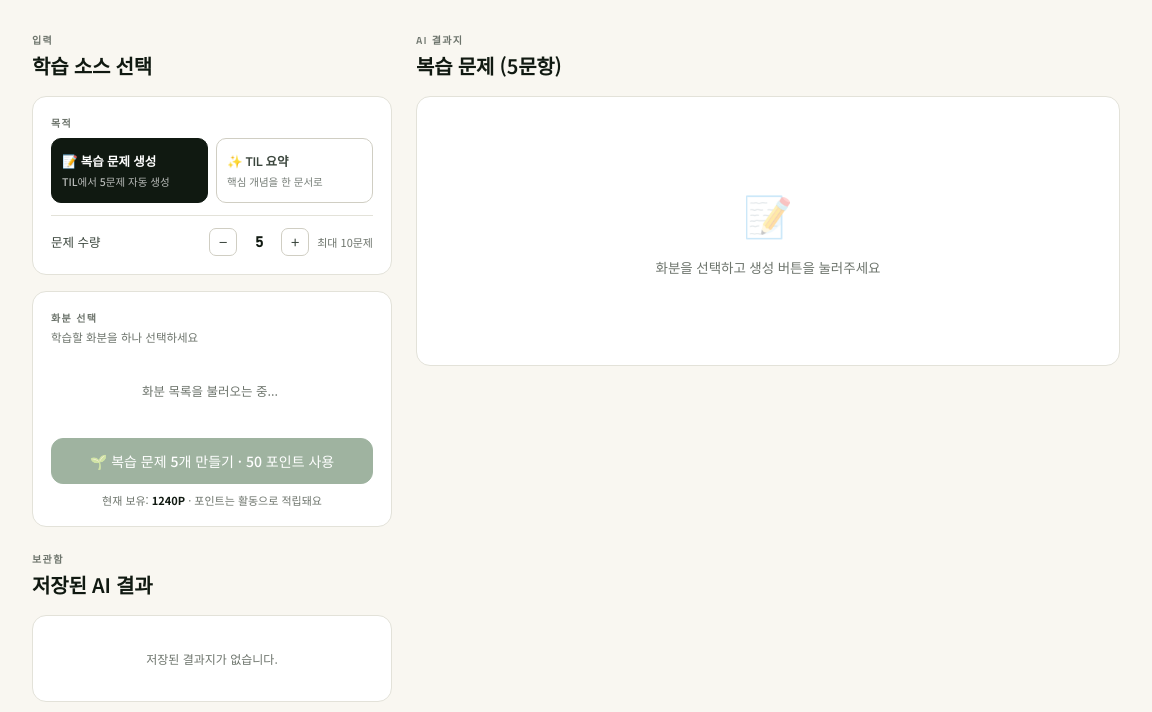
복습 문제 수량 스텝퍼 › + 버튼을 누르면 수량이 증가한다
Click the button "+" at [295, 242], box 281,228 -> 309,256
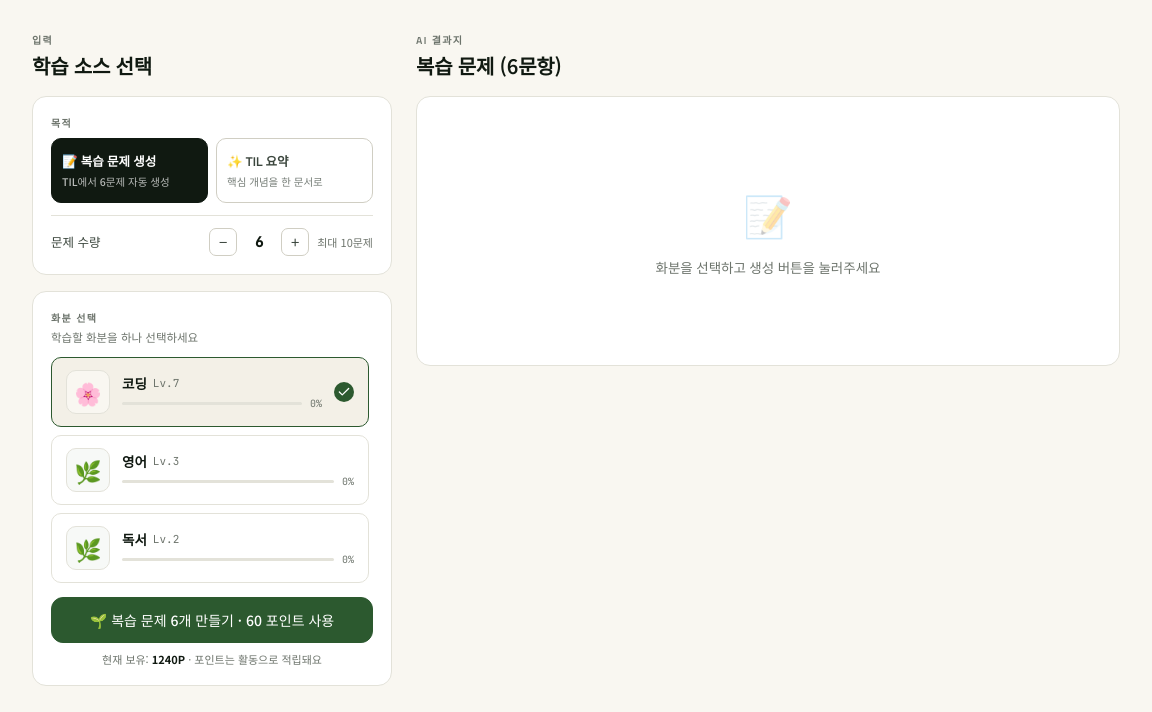
Check: the text "6" is shown, box 255,233 -> 263,251
